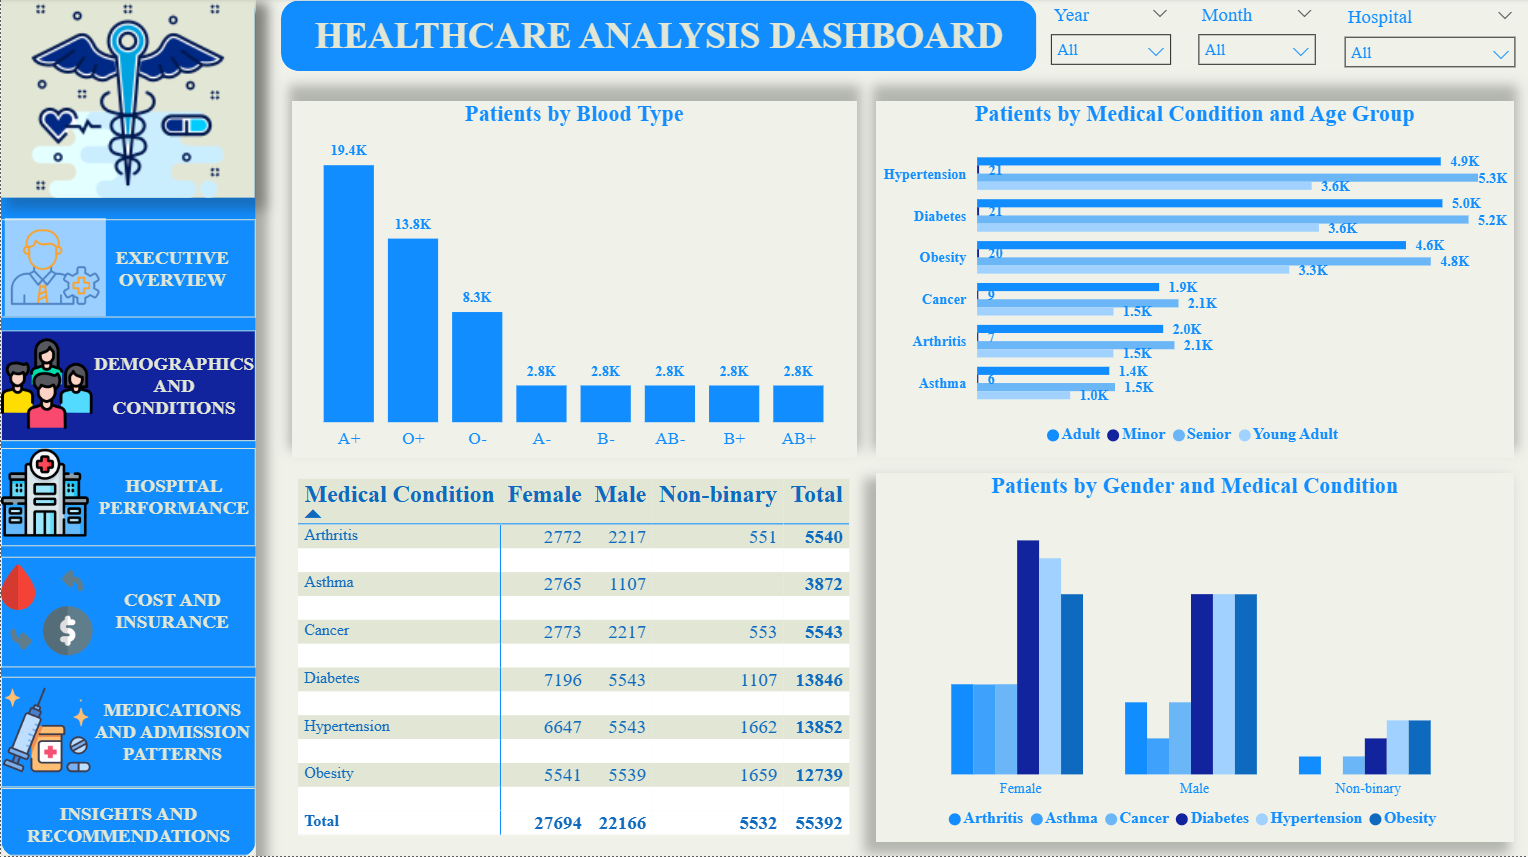

What the dashboard file says about the page in this screenshot:
{"tool":"powerbi","page":{"name":"Page 2","canvas":[1280,720],"ordinal":1},"visuals":[{"type":"shape","box":[0,0,214,720.9],"z":0,"group":"g1"},{"type":"clusteredBarChart","title":"Patients by Medical Condition and Age Group","fields":{"Category":["Data.Medical Condition"],"Series":["Data.Age Group"],"Y":["Data.Total Patients"]},"box":[733.7,86,534.9,300],"z":0},{"type":"clusteredColumnChart","title":"Patients by Gender and Medical Condition","fields":{"Category":["Data.Gender"],"Series":["Data.Medical Condition"],"Y":["Data.Total Patients"]},"box":[733.7,398.8,534.9,309.3],"z":1000},{"type":"clusteredColumnChart","title":"Patients by Blood Type","fields":{"Category":["Data.Blood Type"],"Y":["Data.Total Patients"]},"box":[244.2,86,473.3,300],"z":2000},{"type":"pivotTable","fields":{"Rows":["Data.Age Group","Data.Medical Condition"],"Columns":["Data.Gender"],"Values":["Data.Total Patients"]},"box":[244.2,398.8,473.3,309.3],"z":3000},{"type":"slicer","fields":{"Values":["Data.Date of Admission.Variation.Date Hierarchy.Year"]},"box":[869.8,0,120.9,61.6],"z":4000},{"type":"slicer","fields":{"Values":["Data.Hospital"]},"box":[1116,2.3,164,59.3],"z":5000},{"type":"slicer","fields":{"Values":["Data.Date of Admission.Variation.Date Hierarchy.Month"]},"box":[994.2,0,118.6,61.6],"z":6000},{"type":"group","id":"g1","title":"Group 10","box":[0,0,214,720.9],"z":7000},{"type":"shape","box":[234.9,2.3,633.7,59.3],"z":8000},{"type":"group","id":"g2","title":"Group 9","box":[0,662.8,214,57],"z":9000},{"type":"group","id":"g3","title":"Group 7","box":[0,184.4,214,83.3],"z":15000,"group":"g1"},{"type":"shape","box":[0,279.2,214,93],"z":16000,"group":"g5"},{"type":"group","id":"g4","title":"Group 8","box":[0,369.6,214,89.5],"z":16000,"group":"g1"},{"type":"shape","box":[0,468.8,214,93],"z":16000,"group":"g6"},{"type":"shape","box":[0,569.6,214,93],"z":16000,"group":"g7"},{"type":"shape","box":[0,662.8,214,57],"z":16000,"group":"g2"},{"type":"group","id":"g5","title":"Group 9","box":[0,279.2,214,93],"z":17000,"group":"g1"},{"type":"group","id":"g6","title":"Group 9","box":[0,468.8,214,93],"z":18000,"group":"g1"},{"type":"shape","box":[0,185.2,214,82.6],"z":18500,"group":"g3"},{"type":"group","id":"g7","title":"Group 9","box":[0,569.6,214,93],"z":19000,"group":"g1"},{"type":"shape","box":[0,376.5,214,82.6],"z":19500,"group":"g4"},{"type":"image","box":[0,1.2,212.8,166.3],"z":20000,"group":"g1"},{"type":"shape","box":[73.3,185.1,140.7,82.6],"z":21500,"group":"g3"},{"type":"image","box":[3.5,184.4,84.9,82.6],"z":22000,"group":"g3"},{"type":"image","box":[0,369.6,73.3,89.5],"z":23000,"group":"g4"},{"type":"shape","box":[76.7,379.4,137.2,79.1],"z":26500,"group":"g4"},{"type":"image","box":[0,280.3,76.7,87.2],"z":27001,"group":"g5"},{"type":"image","box":[0,469.9,76.7,87.2],"z":27001,"group":"g6"},{"type":"image","box":[0,570.7,76.7,87.2],"z":27001,"group":"g7"},{"type":"shape","box":[76.7,280.1,137.2,90.7],"z":27501,"group":"g5"},{"type":"shape","box":[73.3,469.1,140.7,90.7],"z":27501,"group":"g6"},{"type":"shape","box":[73.3,570.1,140.7,91.9],"z":27501,"group":"g7"},{"type":"shape","box":[0,666.5,214,52.3],"z":27501,"group":"g2"}]}

Visuals, with their boxes in screenshot pixels (x1, y1, x2, y2), scaled from the page's 1280x720 canvas onto the 1528x857 screenshot:
shape: l=0, t=0, r=255, b=856
"Patients by Medical Condition and Age Group" clusteredBarChart: l=876, t=102, r=1514, b=459
"Patients by Gender and Medical Condition" clusteredColumnChart: l=876, t=475, r=1514, b=843
"Patients by Blood Type" clusteredColumnChart: l=292, t=102, r=857, b=459
pivotTable - Data.Age Group x Data.Medical Condition: l=292, t=475, r=857, b=843
slicer - Data.Date of Admission.Variation.Date Hierarchy.Year: l=1038, t=0, r=1183, b=73
slicer - Data.Hospital: l=1332, t=3, r=1527, b=73
slicer - Data.Date of Admission.Variation.Date Hierarchy.Month: l=1187, t=0, r=1328, b=73
"Group 10" group: l=0, t=0, r=255, b=856
shape: l=280, t=3, r=1037, b=73
"Group 9" group: l=0, t=789, r=255, b=856
"Group 7" group: l=0, t=219, r=255, b=319
shape: l=0, t=332, r=255, b=443
"Group 8" group: l=0, t=440, r=255, b=546
shape: l=0, t=558, r=255, b=669
shape: l=0, t=678, r=255, b=789
shape: l=0, t=789, r=255, b=856
"Group 9" group: l=0, t=332, r=255, b=443
"Group 9" group: l=0, t=558, r=255, b=669
shape: l=0, t=220, r=255, b=319
"Group 9" group: l=0, t=678, r=255, b=789
shape: l=0, t=448, r=255, b=546
image: l=0, t=1, r=254, b=199
shape: l=88, t=220, r=255, b=319
image: l=4, t=219, r=106, b=318
image: l=0, t=440, r=88, b=546
shape: l=92, t=452, r=255, b=546
image: l=0, t=334, r=92, b=437
image: l=0, t=559, r=92, b=663
image: l=0, t=679, r=92, b=783
shape: l=92, t=333, r=255, b=441
shape: l=88, t=558, r=255, b=666
shape: l=88, t=679, r=255, b=788
shape: l=0, t=793, r=255, b=856
